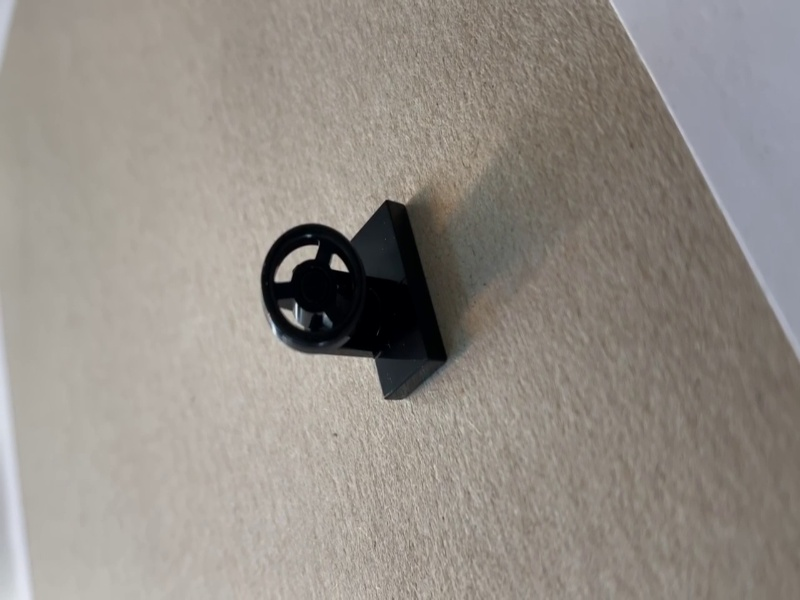steering wheel: (262, 199, 451, 400)
